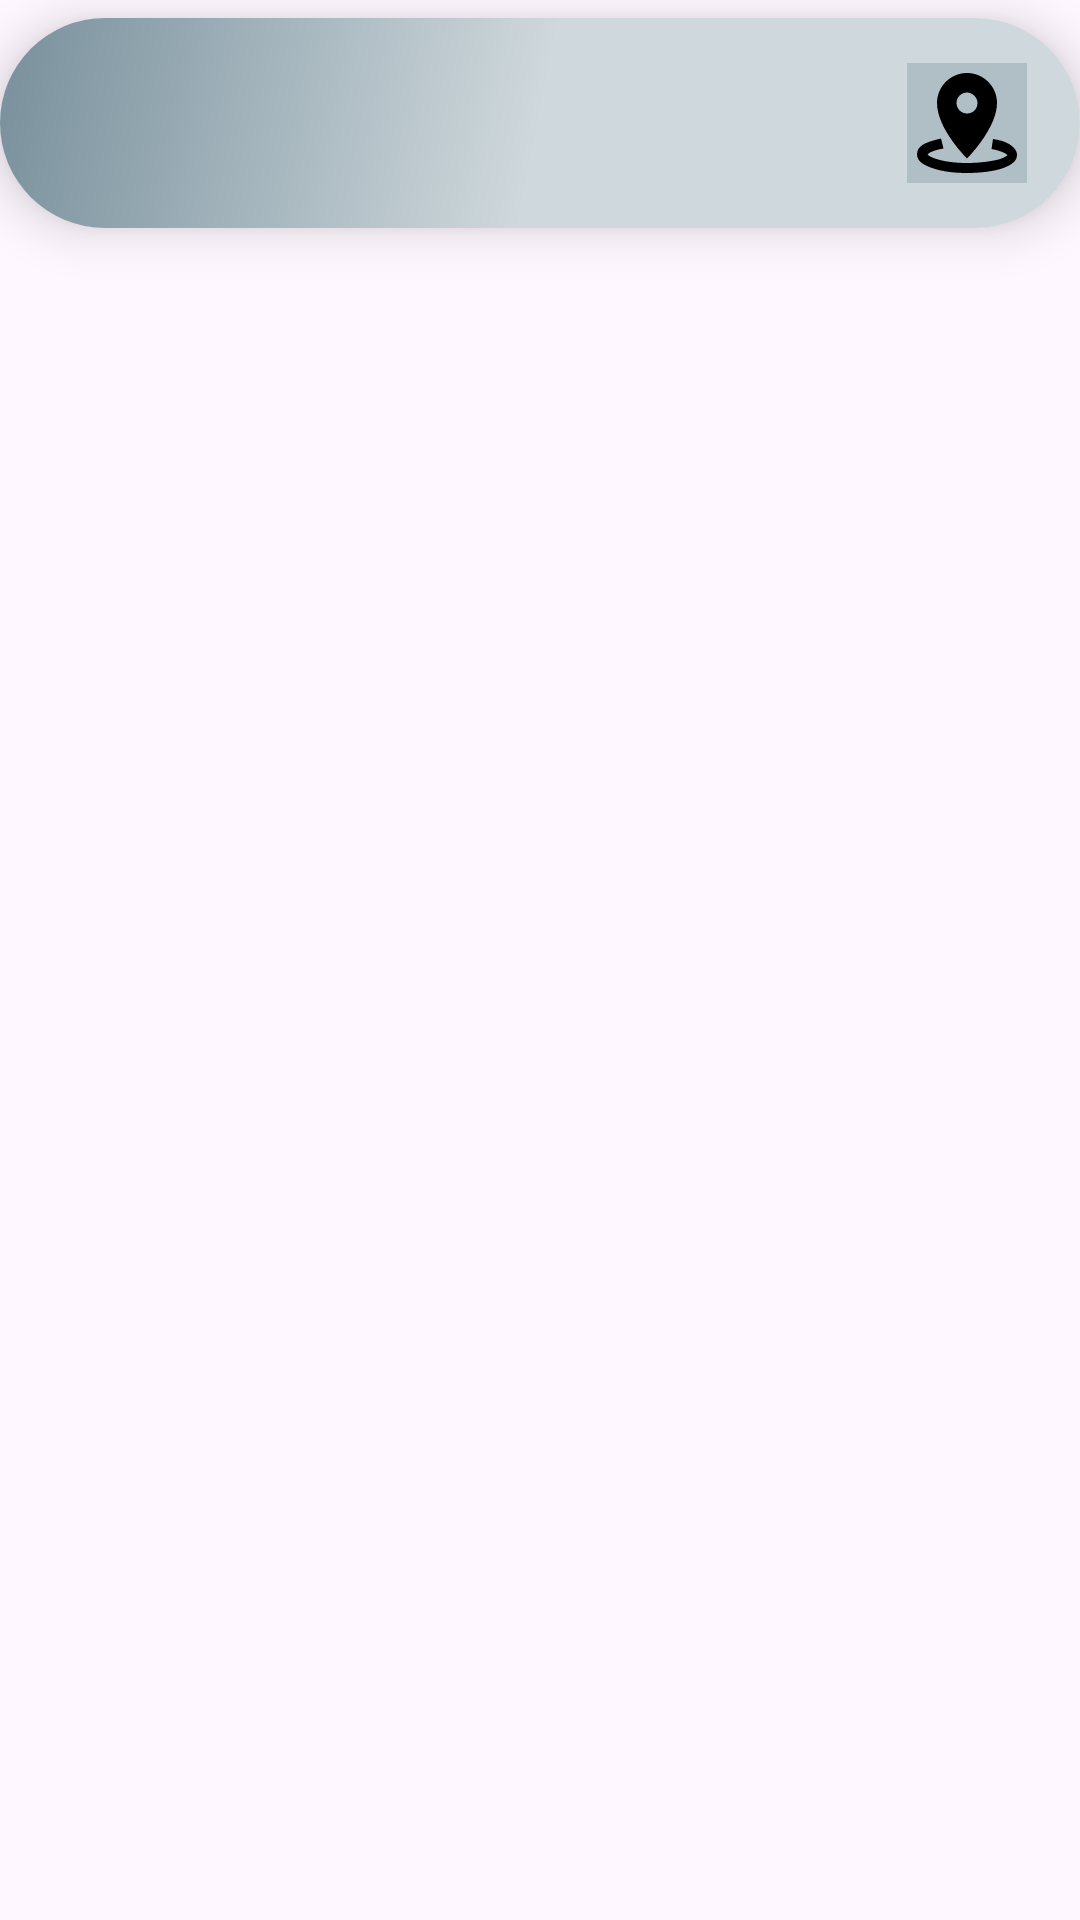

Point at icon controls on the screen. Image size 1080x1920, points as [x,y].
location: [967,123]
